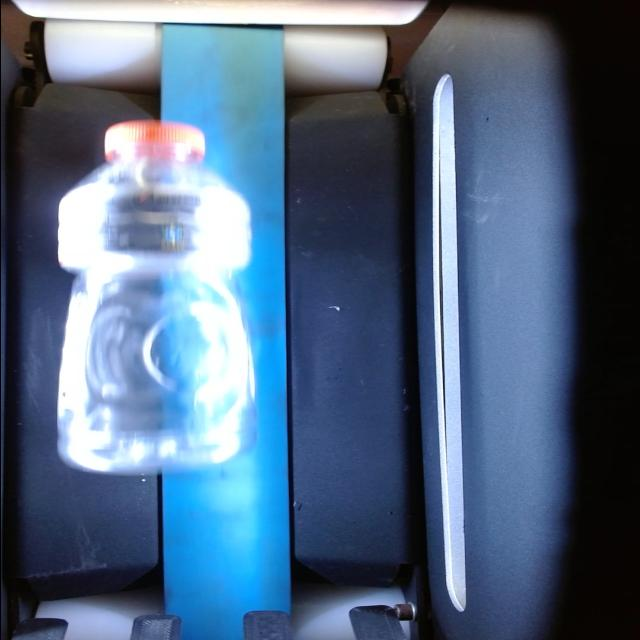bottle: (57, 121, 253, 474)
